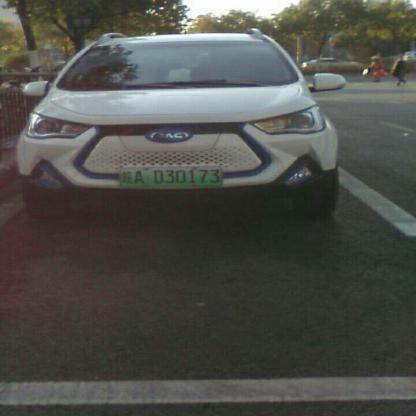lp: (119, 166, 222, 186)
